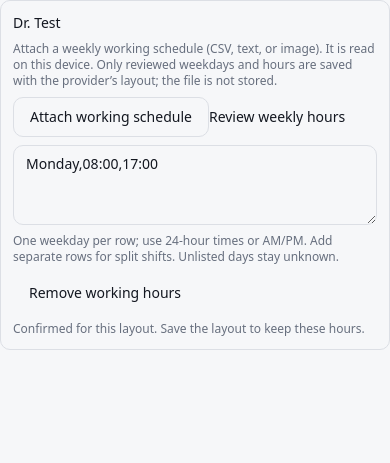
does not replace confirmed hours with an invalid schedule
Replace the text in the text box labelled "Review weekly hours" with "Monday,17:00,08:00" at (195, 185), box [13,145,377,225]
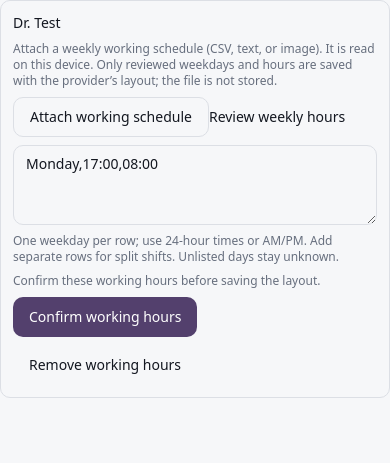
Click the button "Confirm working hours" at (105, 317), box [13,297,197,337]
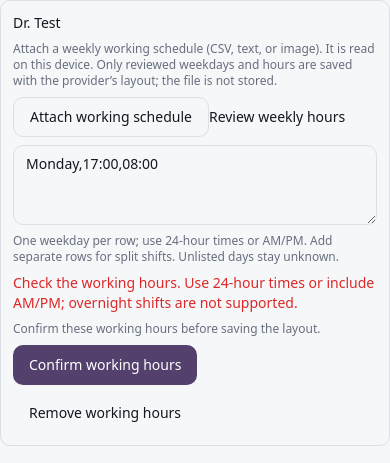
Now the message shows "Check the working hours", box [13,273,374,312]
